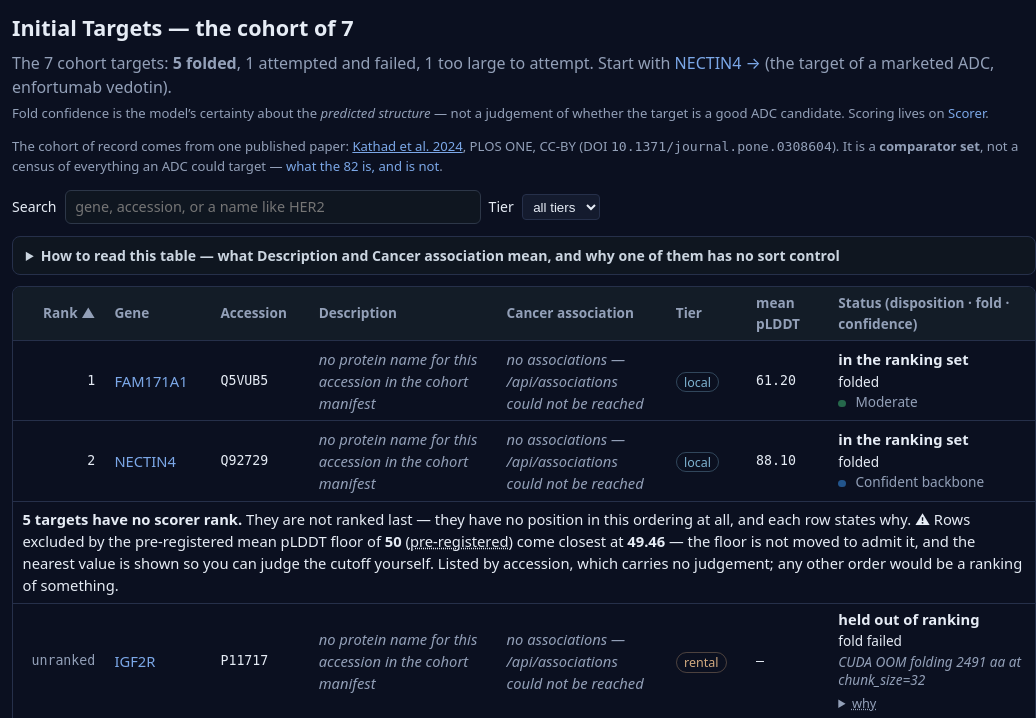
Test case: pLDDT stays available as a lens, and says what it is › carries the census sentence when the reader chooses it
The image size is (1036, 718).
Click the button "mean pLDDT": (788, 314) [756,293,819,334]
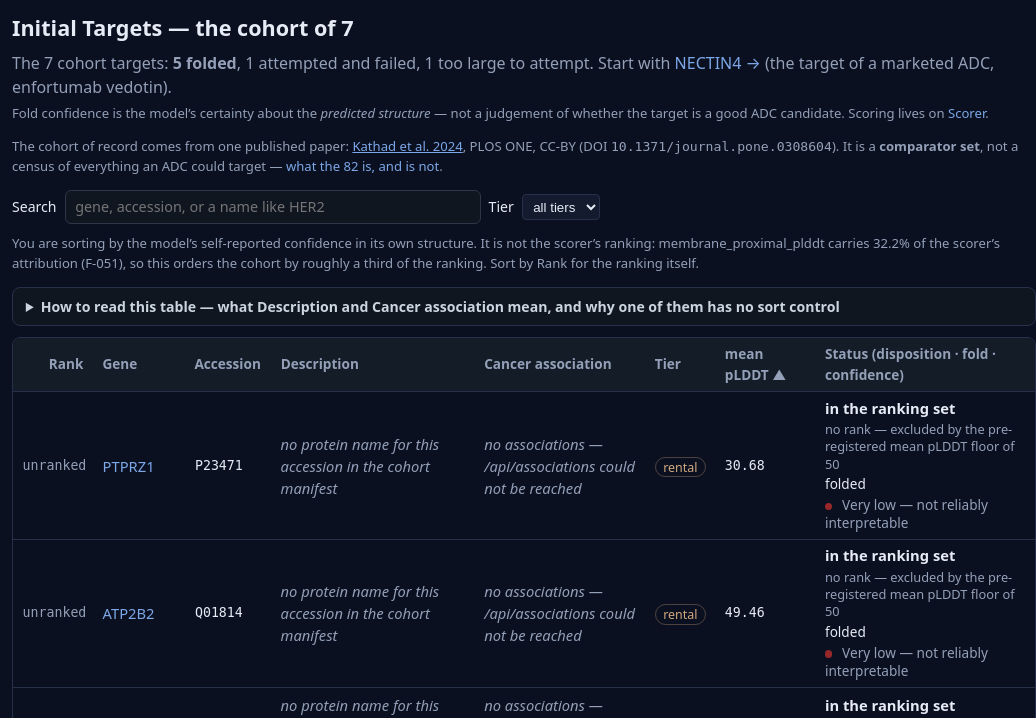
Now the text "self-reported" is shown, box [12,234,1000,272]
Now the text "32.2%" is shown, box [12,234,1000,272]
Now the text "not the scorer" is shown, box [12,234,1000,272]
